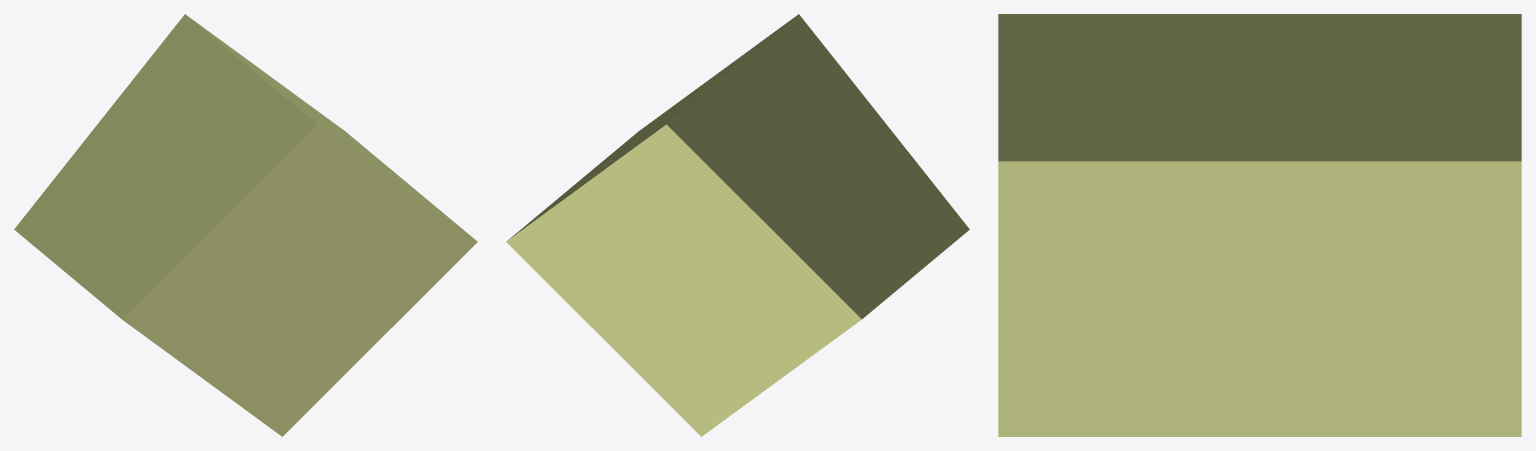
The picture shows the model from 3 angles, left to right: view 1: azimuth 30°, elevation 25°; view 2: azimuth 150°, elevation 25°; view 3: azimuth 270°, elevation 25°; orthographic projection. The views are drawn at different scales.
Visible parts, largest first — view 1: 0_0_1_3_2_2_2_0_1_3; view 2: 0_0_1_3_2_2_2_0_1_3; view 3: 0_0_1_3_2_2_2_0_1_3.
Part boxes in pixels (x1=…): 0_0_1_3_2_2_2_0_1_3: x1=14, y1=14, x2=477, y2=436; 0_0_1_3_2_2_2_0_1_3: x1=506, y1=14, x2=969, y2=436; 0_0_1_3_2_2_2_0_1_3: x1=998, y1=14, x2=1521, y2=436.
Bounding box in the file's own units: 9.82 × 8.97 × 9.
